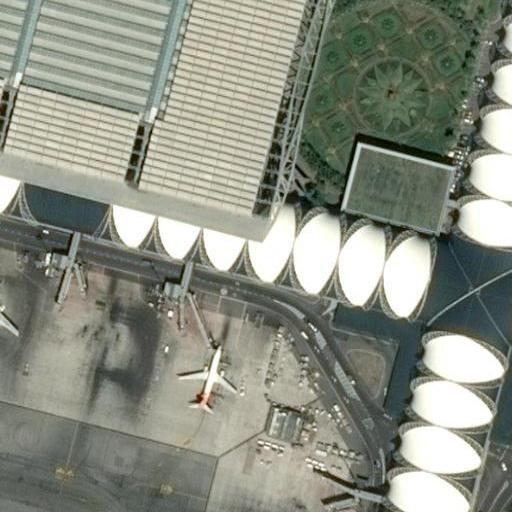Aircraft: (170, 337, 243, 413)
